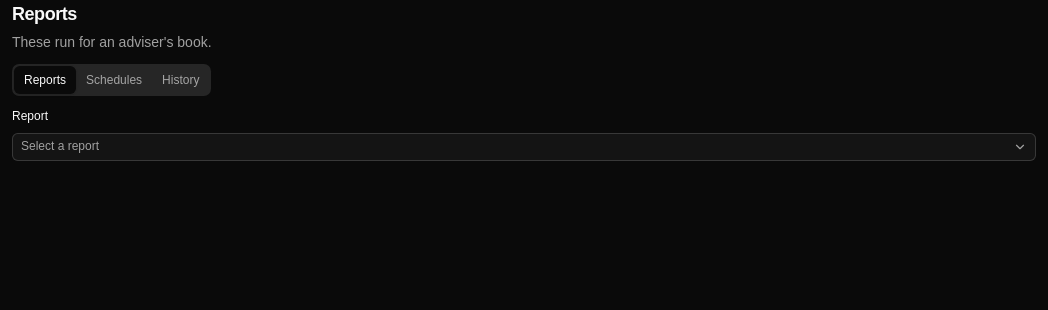
Test case: ReportsPage › queues adviser balances without an adviser id
The image size is (1048, 310).
Expected: the field labelled "Include closed accounts" is not shown
Click the dropdown labelled "report". click: click(60, 146)
box: [12,132,1036,160]
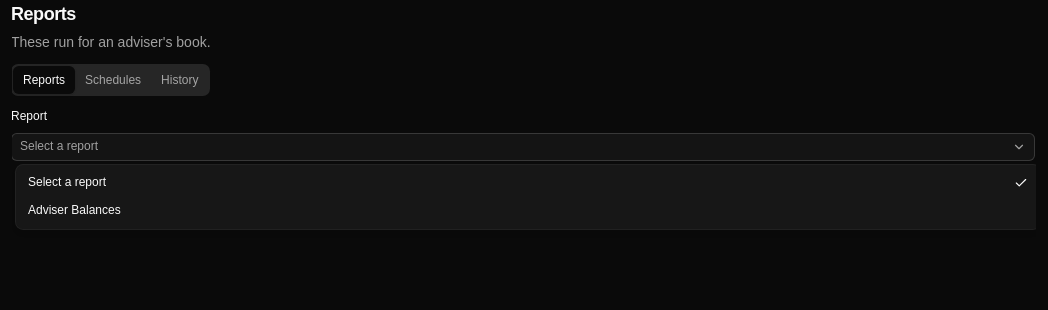
Click the option "Adviser Balances". click: click(74, 210)
box: [28,203,121,217]
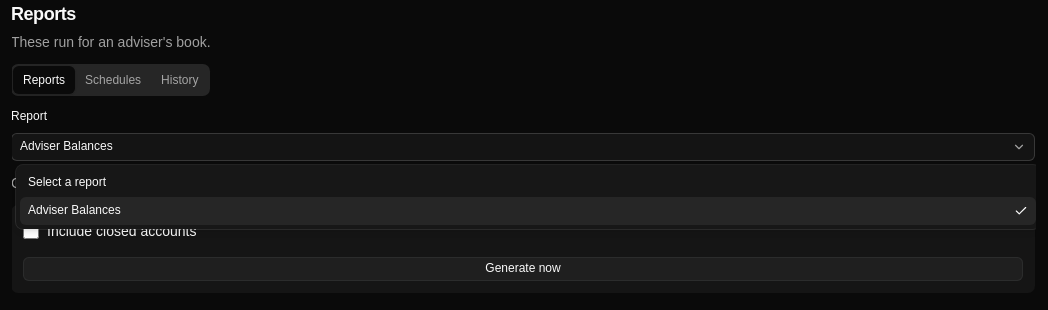
Expected: the checkbox labelled "Include closed accounts" is not checked, [23,222,39,238]
Click the button "Generate now". click: click(523, 268)
box: [23,256,1023,280]
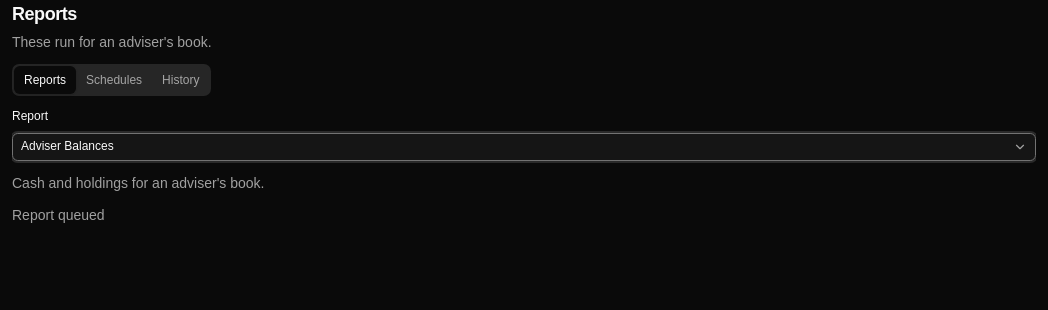
Expected: the text "Report queued" is shown, [12,206,105,222]
